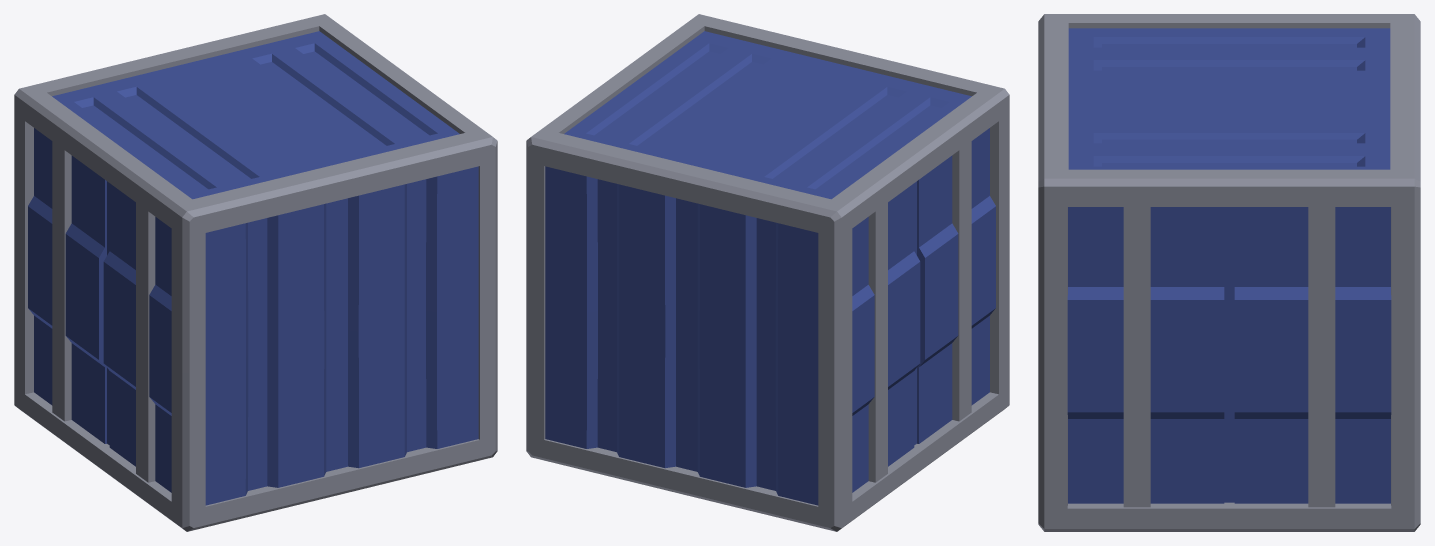
The model's file is container.glb.
3 views of the same model, side by side, from view 1: azimuth 30°, elevation 25°; view 2: azimuth 150°, elevation 25°; view 3: azimuth 270°, elevation 25° (orthographic). The views are drawn at different scales.
Visible parts, largest first — view 1: Container_Small; view 2: Container_Small; view 3: Container_Small.
Part boxes in pixels (x1,y1,x2,y2): Container_Small: (14,14,497,531); Container_Small: (526,14,1009,531); Container_Small: (1038,14,1420,531).
Bounding box in the file's own units: 2.19 × 2.13 × 2.09.
